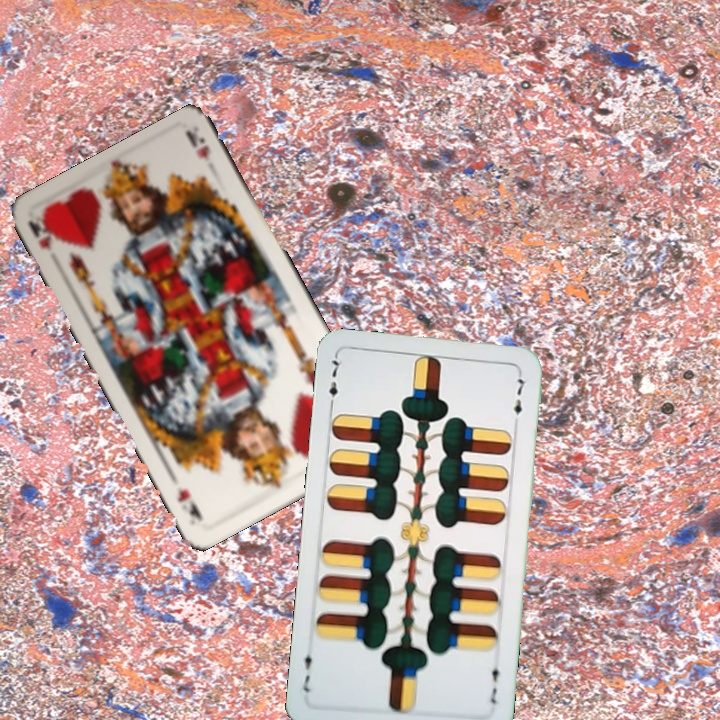E7: (325, 353, 342, 412), (486, 658, 503, 707)
HK: (24, 211, 60, 254)
